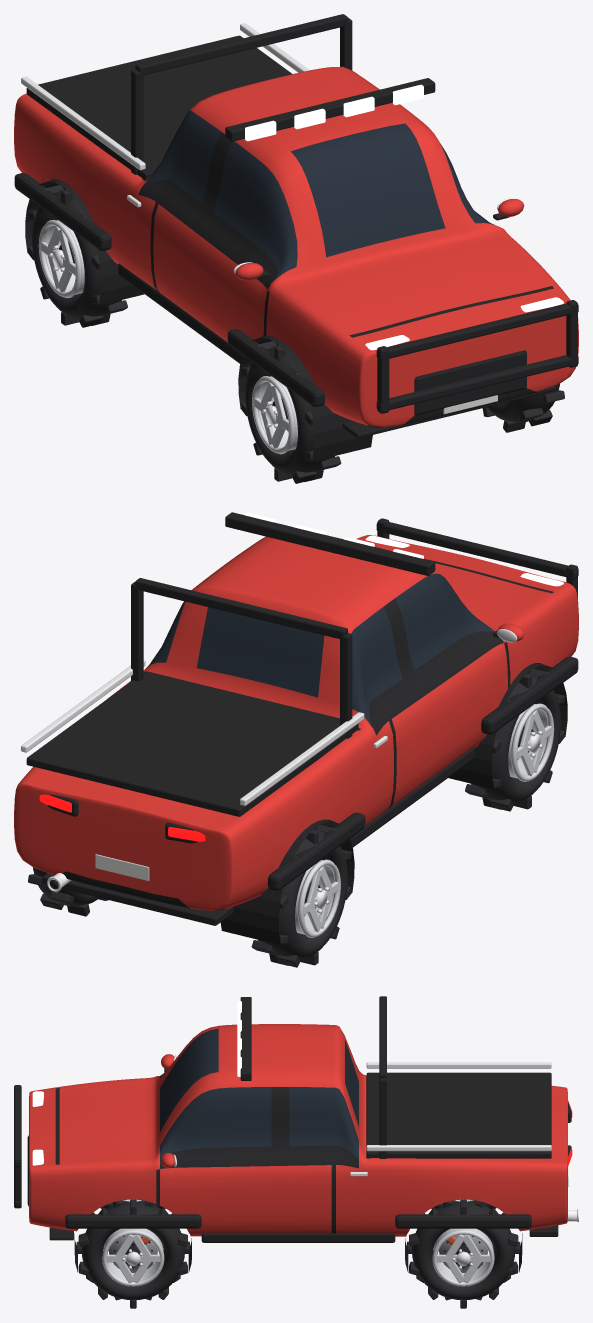
The model's file is tundra_mid.glb.
3 views of the same model, one above another, from view 1: azimuth 30°, elevation 25°; view 2: azimuth 150°, elevation 25°; view 3: azimuth 270°, elevation 25° (orthographic). The views are drawn at different scales.
Parts seen in each view (by area): view 1: body, wheel_fr, wheel_rr, wheel_fl; view 2: body, wheel_rr, wheel_fr, wheel_rl; view 3: body, wheel_fl, wheel_rl.
Boxes of the visible parts, <box> form: body: <box>14,14,578,461</box>; wheel_fr: <box>241,341,341,483</box>; wheel_rr: <box>28,185,127,327</box>; wheel_fl: <box>482,383,564,432</box>; body: <box>14,512,578,945</box>; wheel_rr: <box>251,824,351,967</box>; wheel_fr: <box>465,668,564,811</box>; wheel_rl: <box>28,867,108,916</box>; body: <box>14,996,578,1272</box>; wheel_fl: <box>76,1199,189,1308</box>; wheel_rl: <box>407,1199,520,1308</box>.
Size of the model in its own units: 2.33 by 2.28 by 5.13.
